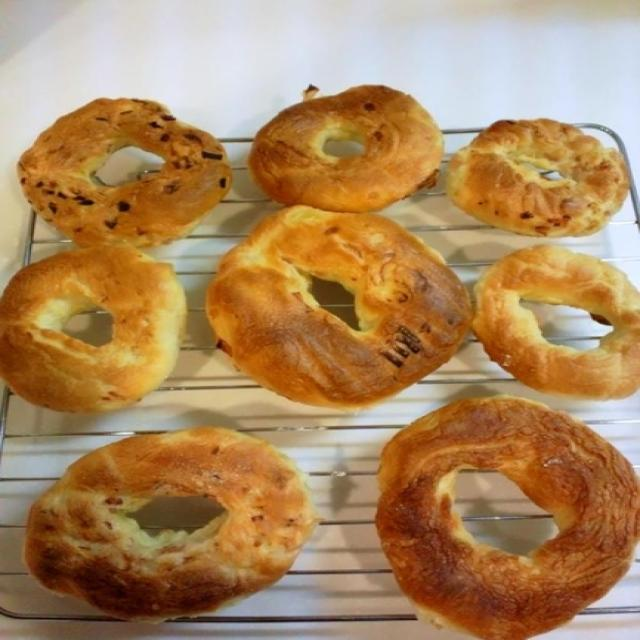面包点心: (15, 42, 618, 631)
